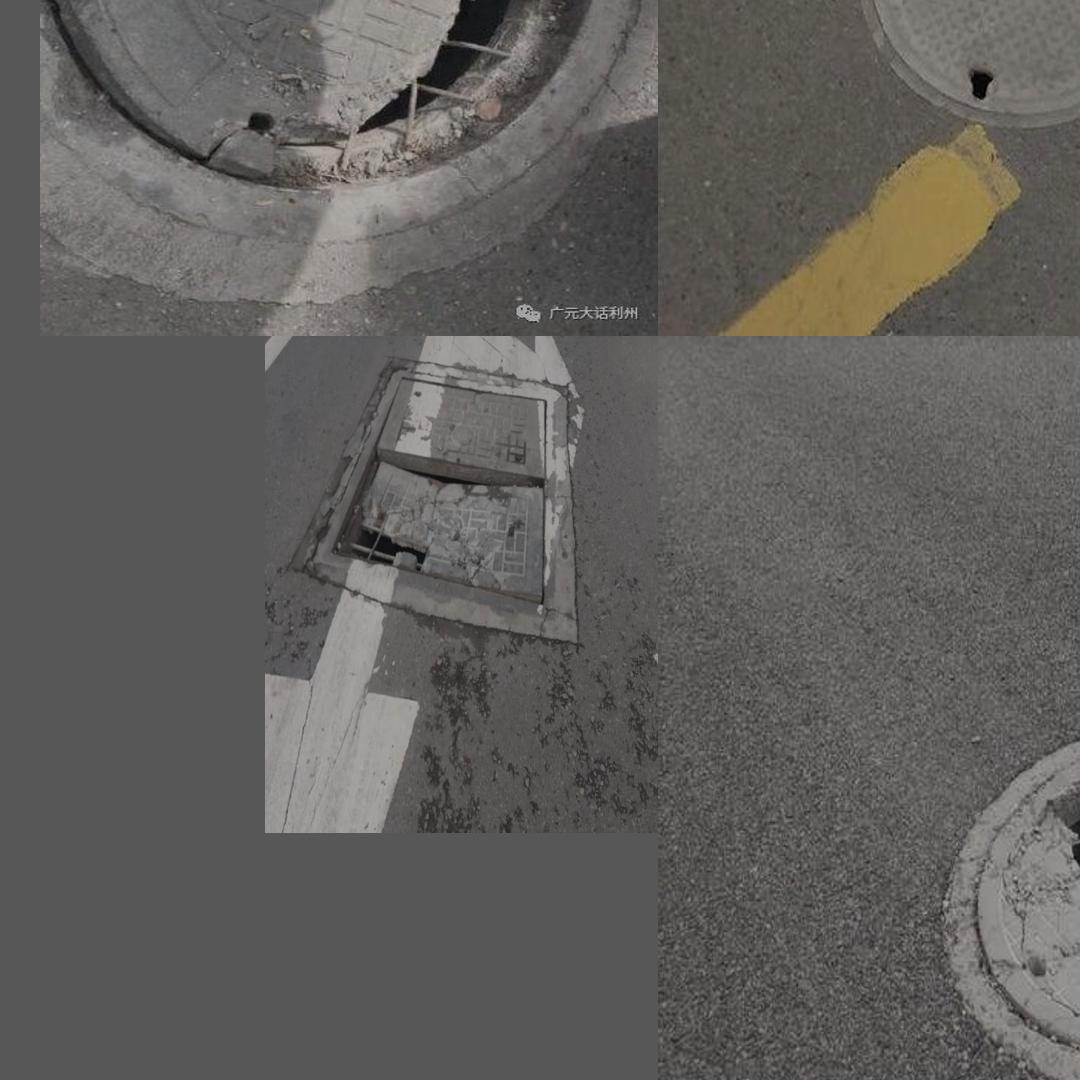broke: (48, 0, 640, 275), (304, 368, 573, 639), (930, 705, 1080, 1080), (847, 0, 1080, 134)
